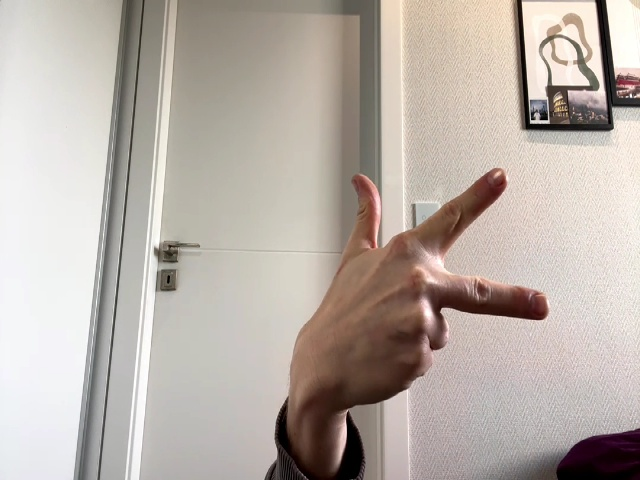K: (314, 169, 550, 403)
